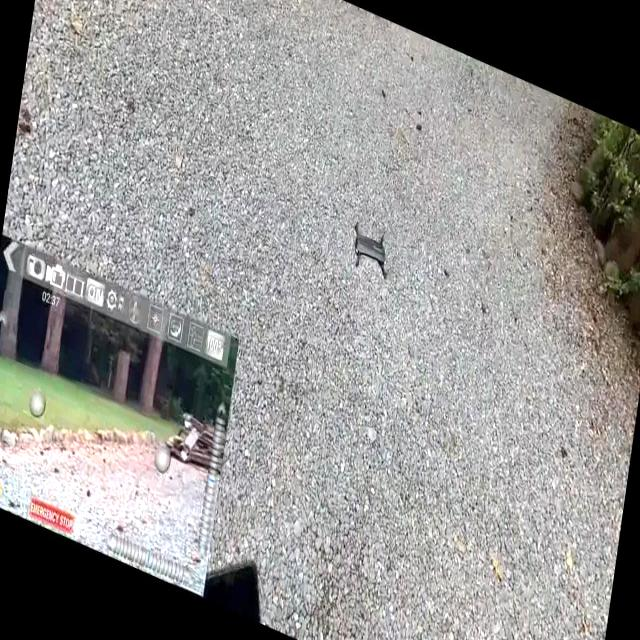drone: (348, 220, 398, 284)
